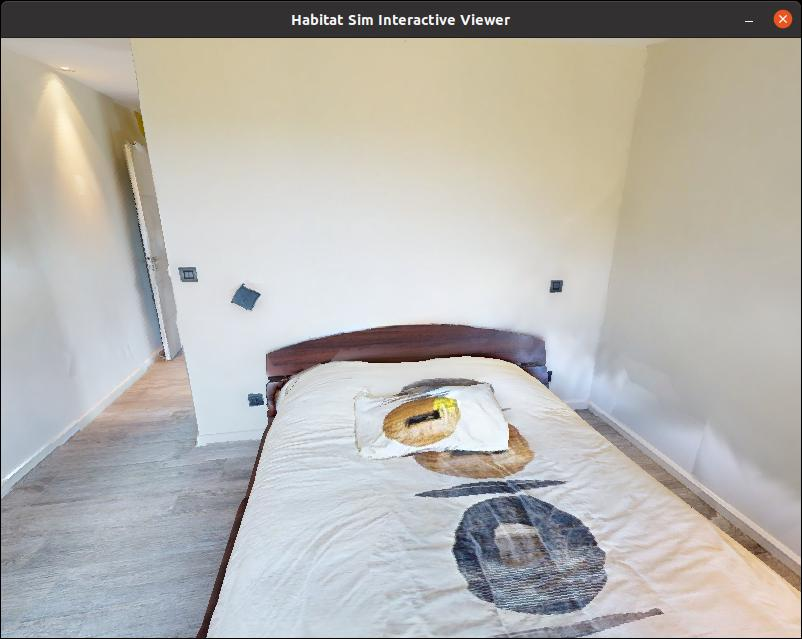bed: (195, 333, 780, 639)
